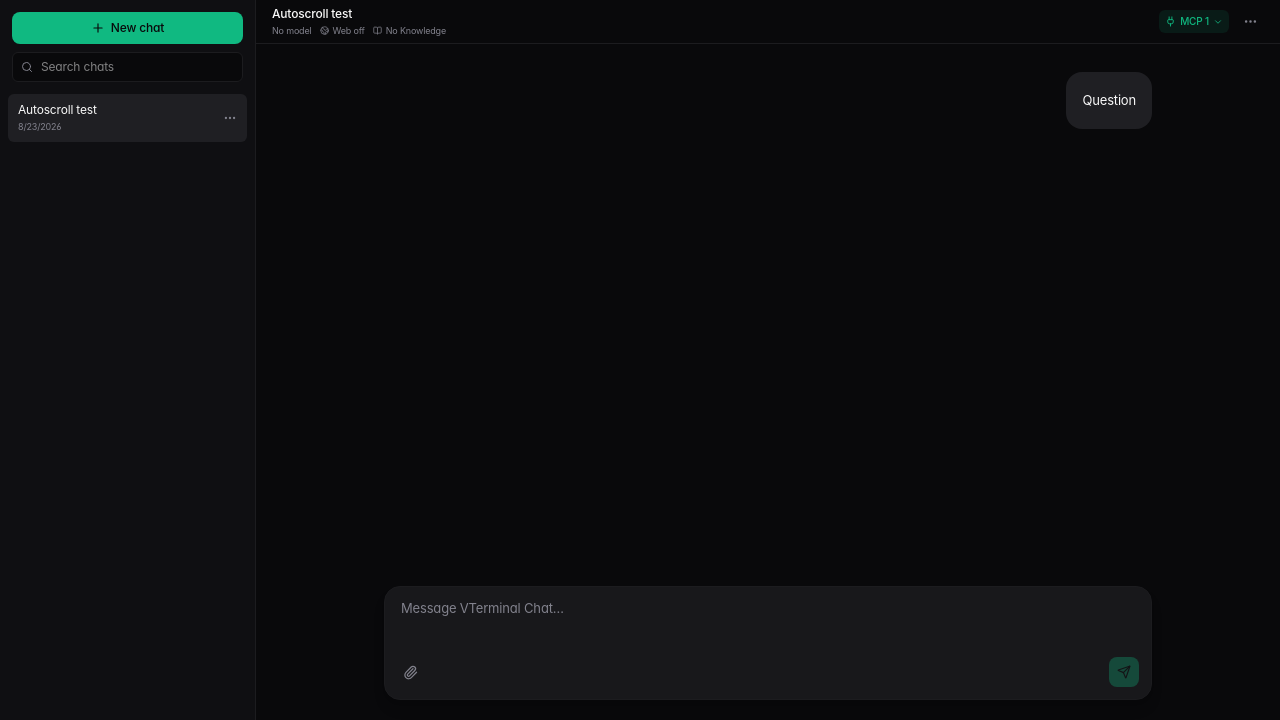
Chat workspace autoscroll › shows the current Chat thread's MCP selection in the toolbar
Click the button titled "Select MCP servers and tools for this chat" at (1194, 22), box [1159, 10, 1229, 33]
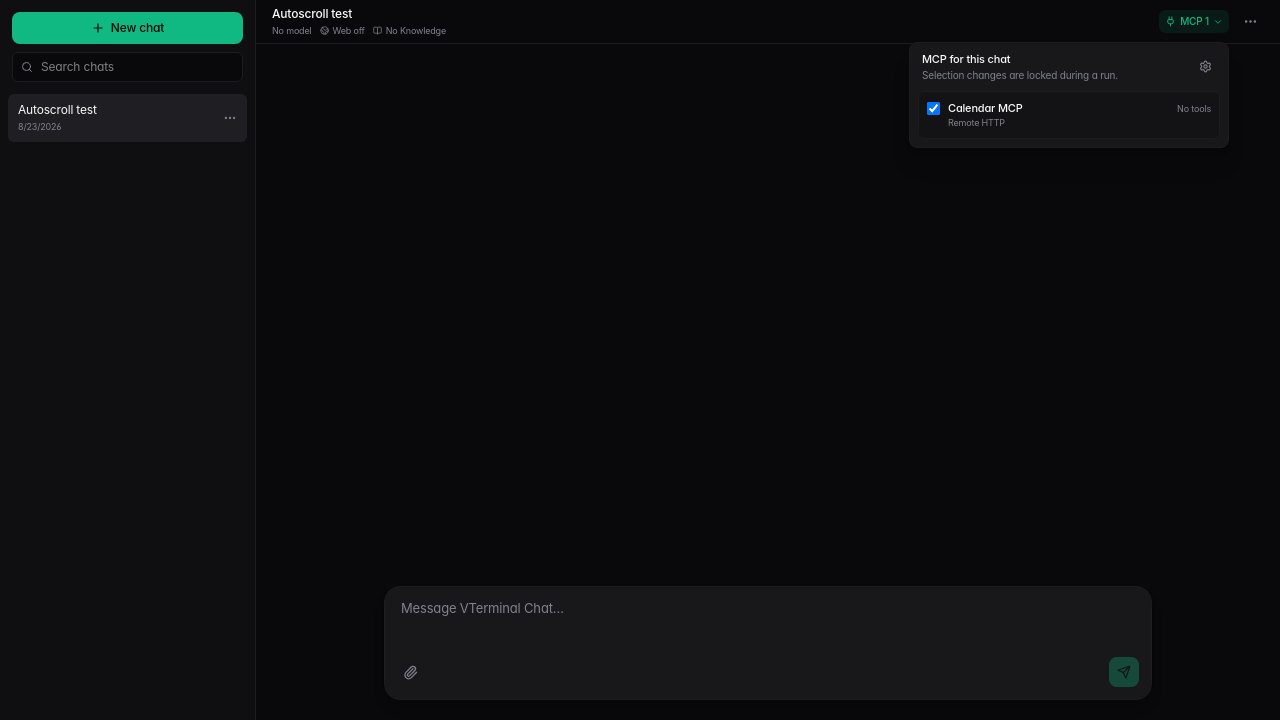
Expected: the text "Calendar MCP" is shown, [948, 100, 1023, 114]
